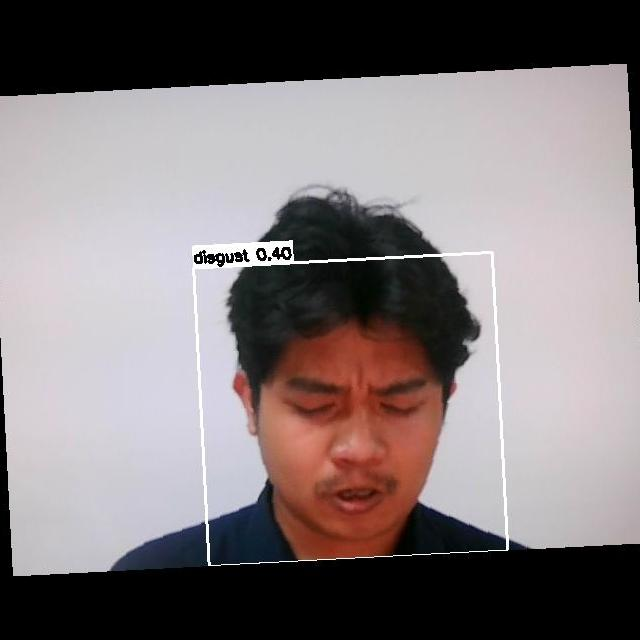Angry: (255, 348, 448, 521)
